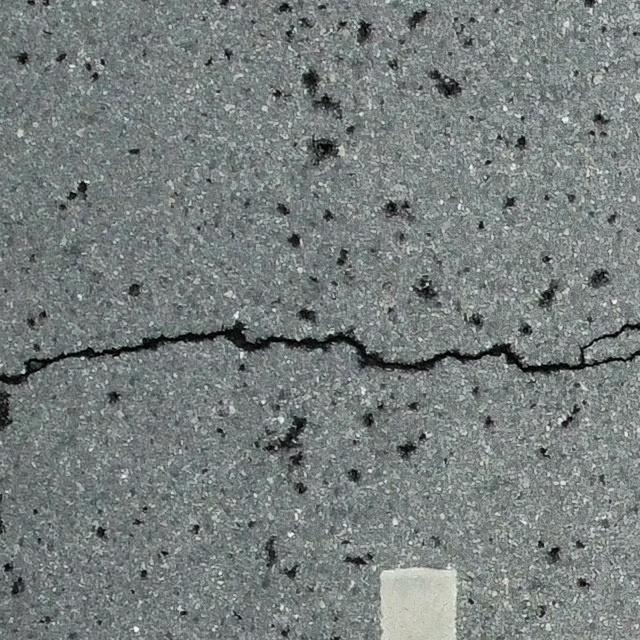TransverseCrack: (1, 322, 640, 383)
